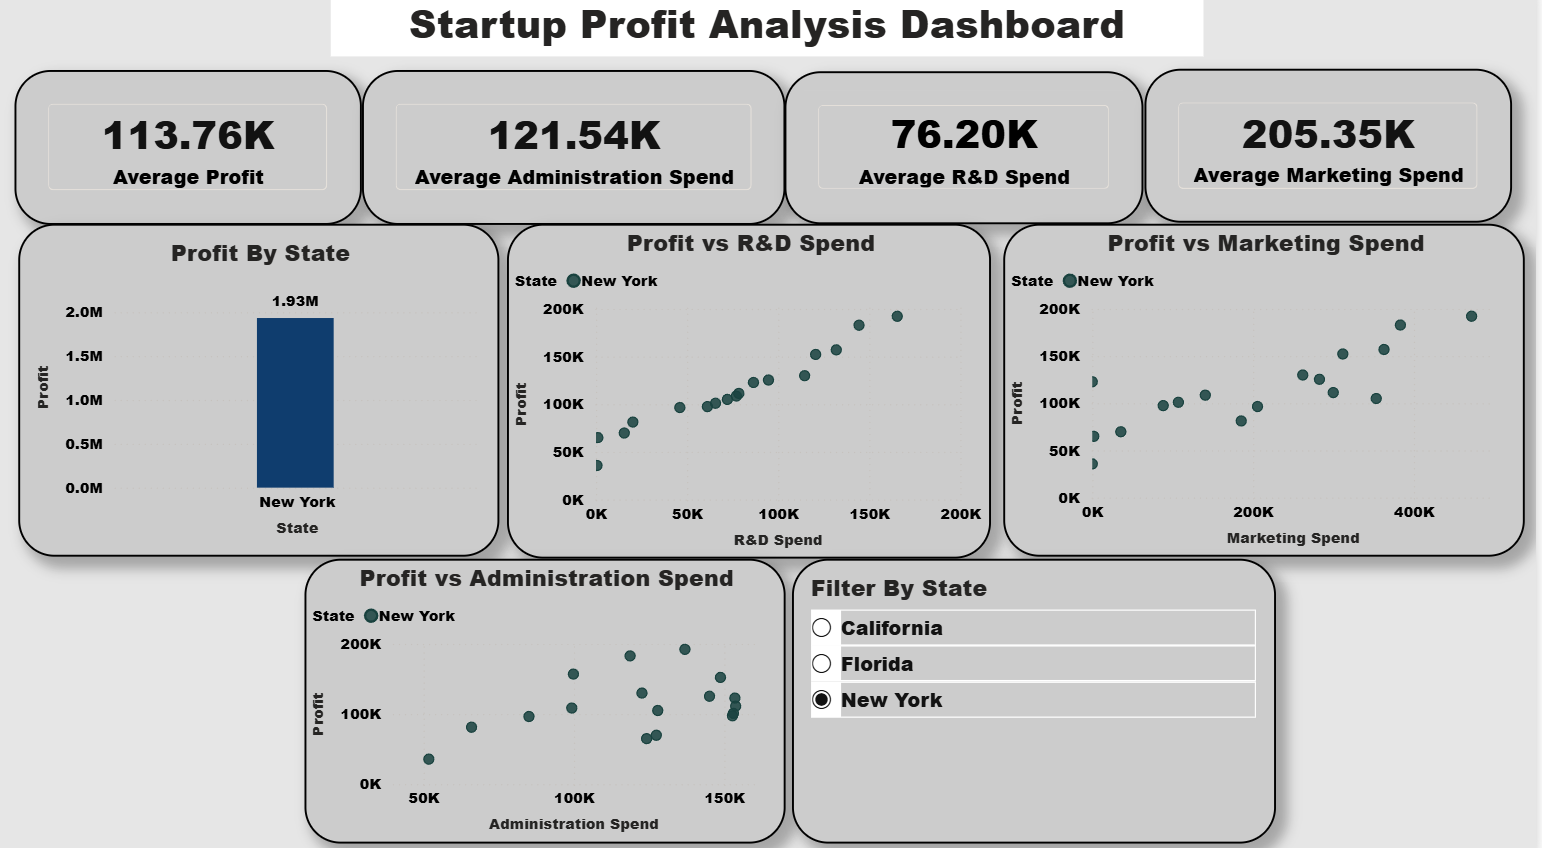

This screenshot's page, from the dashboard's own definition file:
{"tool":"powerbi","page":{"name":"Page 1","canvas":[1280,720],"ordinal":0},"visuals":[{"type":"cardVisual","title":"Average Profit","fields":{"Data":["Avg(startup.Profit)"]},"box":[14.4,66.4,288.6,128.4],"z":0},{"type":"textbox","box":[277,0,725.7,54.8],"z":1000},{"type":"cardVisual","fields":{"Data":["Avg(startup.Administration)"]},"box":[303,66.4,352,128.4],"z":2000},{"type":"cardVisual","fields":{"Data":["Avg(startup.RD_Spend)"]},"box":[655,67.8,298.7,127],"z":3000},{"type":"cardVisual","fields":{"Data":["Avg(startup.Marketing_Spend)"]},"box":[954,65.9,305.6,128.2],"z":4000},{"type":"clusteredColumnChart","title":"Profit By State","fields":{"Category":["startup.State"],"Y":["Sum(startup.Profit)"]},"box":[17.3,194.8,399.6,277],"z":5000},{"type":"scatterChart","title":"Profit vs R&D Spend","fields":{"X":["startup.RD_Spend"],"Y":["startup.Profit"],"Series":["startup.State"]},"box":[424.2,194.8,402.5,278.5],"z":6000},{"type":"scatterChart","title":"Profit vs Marketing Spend","fields":{"Y":["startup.Profit"],"Series":["startup.State"],"X":["startup.Marketing_Spend"]},"box":[836.6,194.2,433.9,276.9],"z":7000},{"type":"scatterChart","title":"Profit vs Administration Spend","fields":{"Y":["startup.Profit"],"Series":["startup.State"],"X":["startup.Administration"]},"box":[255.4,473.2,399.6,236.6],"z":8000},{"type":"listSlicer","title":"Filter By State","fields":{"Values":["startup.State"]},"box":[660.8,473.2,402.5,236.6],"z":9000}]}

Visuals, with their boxes in screenshot pixels (x1, y1, x2, y2), scaled from the page's 1280x720 canvas onto the 1542x848 screenshot:
"Average Profit" cardVisual: (x1=17, y1=78, x2=365, y2=229)
textbox: (x1=334, y1=0, x2=1208, y2=65)
cardVisual - Avg(startup.Administration): (x1=365, y1=78, x2=789, y2=229)
cardVisual - Avg(startup.RD_Spend): (x1=789, y1=80, x2=1149, y2=229)
cardVisual - Avg(startup.Marketing_Spend): (x1=1149, y1=78, x2=1517, y2=229)
"Profit By State" clusteredColumnChart: (x1=21, y1=229, x2=502, y2=556)
"Profit vs R&D Spend" scatterChart: (x1=511, y1=229, x2=996, y2=557)
"Profit vs Marketing Spend" scatterChart: (x1=1008, y1=229, x2=1531, y2=555)
"Profit vs Administration Spend" scatterChart: (x1=308, y1=557, x2=789, y2=836)
"Filter By State" listSlicer: (x1=796, y1=557, x2=1281, y2=836)
